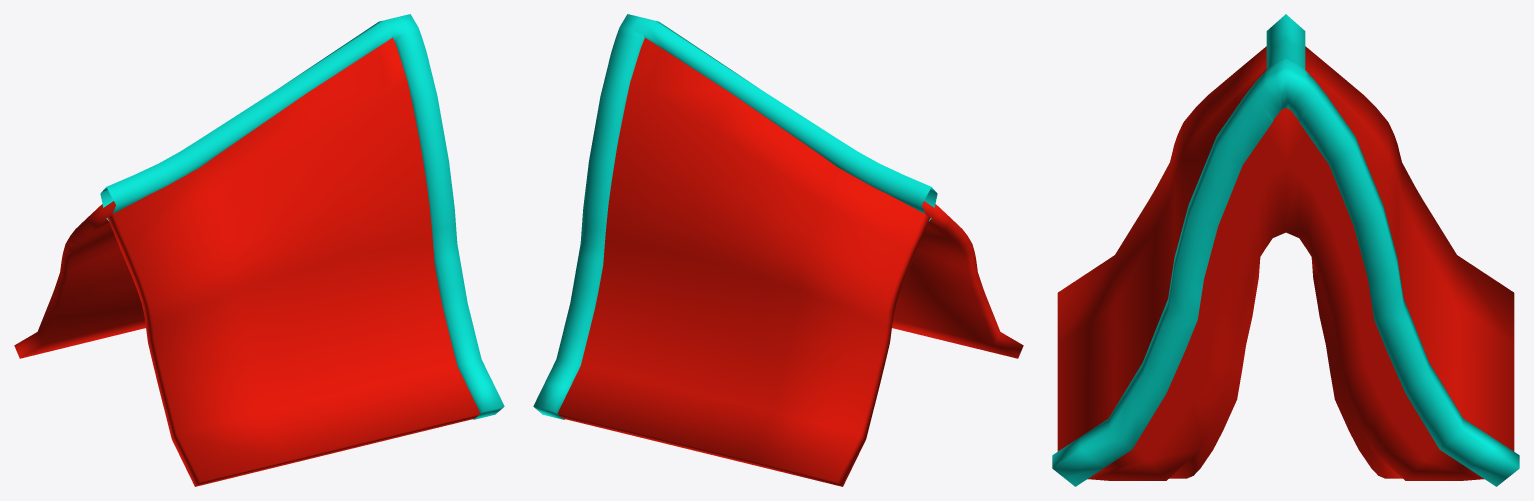
The model's file is Kasteel3UV.fbx.
3 views of the same model, side by side, from view 1: azimuth 30°, elevation 25°; view 2: azimuth 150°, elevation 25°; view 3: azimuth 270°, elevation 25° (orthographic). The views are drawn at different scales.
Visible parts, largest first — view 1: Cube, Cube.001; view 2: Cube, Cube.001; view 3: Cube, Cube.001.
Boxes of the visible parts, <box> form: Cube: <box>14,38,480,486</box>; Cube.001: <box>100,14,504,419</box>; Cube: <box>557,38,1023,486</box>; Cube.001: <box>533,14,937,419</box>; Cube: <box>1057,46,1514,480</box>; Cube.001: <box>1052,14,1519,486</box>.
Bounding box in the file's own units: 625 × 662 × 680.
